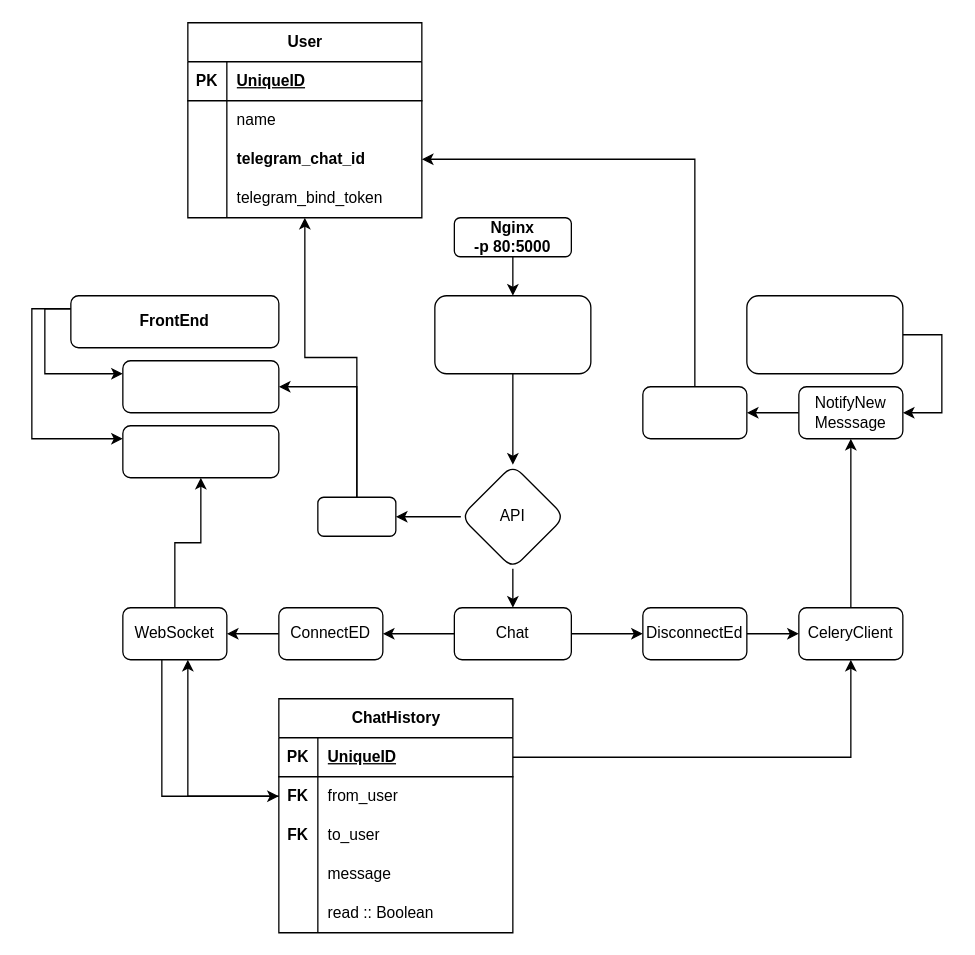
The diagram is 975 pixels wide and 955 high, and some of its shapes have lost their labels. The centre of each missing label's shape, as x and y in pixels:
"Auth" goes at (356,516).
"BackEnd" goes at (512,334).
"Celery" goes at (824,334).
"Index :: Chat" goes at (200,451).
"Login" goes at (200,386).
"TelegramBot" goes at (694,412).
